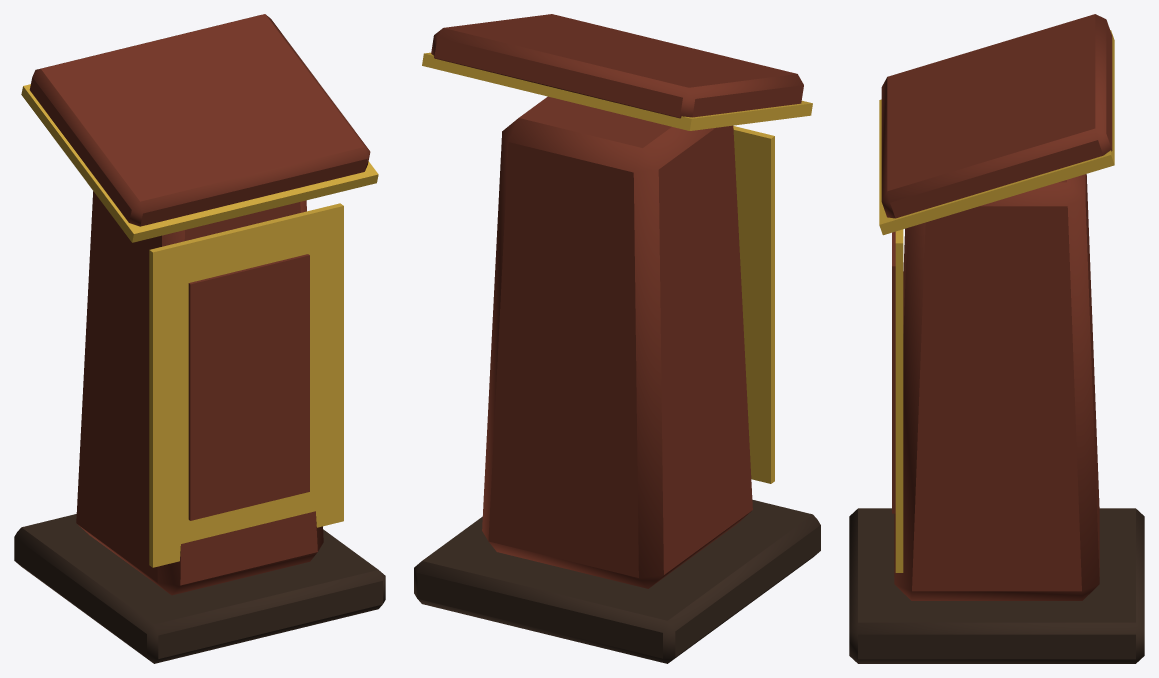
File: 407_piece_roue_pupitre.fbx
3 renders of one model, left to right at view 1: azimuth 30°, elevation 25°; view 2: azimuth 150°, elevation 25°; view 3: azimuth 270°, elevation 25°, orthographic. The views are drawn at different scales.
Parts seen in each view (by area): view 1: Pupitre; view 2: Pupitre; view 3: Pupitre.
Boxes of the visible parts, left/top/right/bottom form: Pupitre: left=14, top=14, right=385, bottom=663; Pupitre: left=414, top=14, right=820, bottom=663; Pupitre: left=849, top=14, right=1144, bottom=663.
Size of the model in its own units: 0.56 by 1.12 by 0.56.
Materials: 1 (1 with a texture image).
